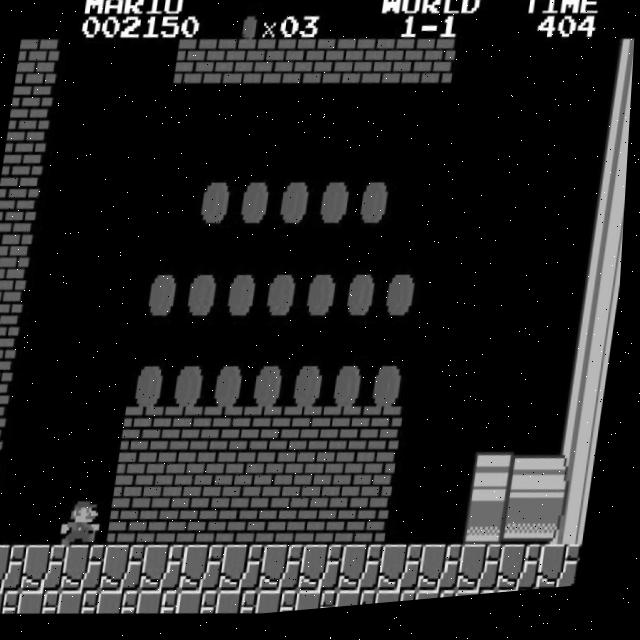1- brick_block: (371, 43, 419, 96), (252, 41, 300, 93), (118, 452, 165, 505), (350, 502, 397, 555), (173, 40, 220, 92), (112, 498, 159, 550), (213, 41, 260, 93), (158, 453, 205, 505), (152, 499, 199, 551), (198, 454, 245, 506), (192, 500, 239, 552), (292, 42, 339, 94), (237, 455, 284, 507), (231, 500, 278, 552), (332, 43, 379, 95), (283, 409, 330, 461), (277, 455, 324, 507), (271, 501, 318, 553), (317, 456, 364, 508), (311, 502, 358, 554), (411, 44, 458, 96), (356, 457, 403, 509), (124, 407, 171, 458), (164, 408, 211, 459), (204, 408, 251, 459), (243, 409, 290, 460), (323, 410, 370, 461), (362, 411, 409, 462), (15, 37, 61, 89), (9, 83, 55, 134), (3, 129, 49, 180), (0, 174, 43, 226), (0, 220, 37, 272), (0, 266, 30, 317), (0, 311, 24, 363), (0, 358, 18, 409), (0, 404, 12, 454), (0, 449, 6, 499)
11- little_mario: (62, 497, 112, 553)
14- pipe: (560, 414, 608, 465), (554, 460, 602, 511), (515, 460, 562, 512), (509, 505, 556, 557), (573, 322, 620, 374), (567, 368, 614, 420), (548, 505, 595, 557), (579, 276, 625, 327), (585, 231, 627, 283), (591, 185, 629, 237), (597, 140, 631, 190), (603, 94, 634, 144), (609, 48, 636, 99)
15- pipe_head: (475, 459, 522, 511), (469, 505, 516, 557)
17- undestructible_block: (185, 545, 233, 598), (66, 544, 114, 596), (304, 548, 352, 600), (423, 550, 471, 602), (106, 544, 153, 597), (463, 550, 510, 603), (27, 543, 74, 595), (146, 545, 193, 597), (225, 546, 272, 598), (265, 547, 312, 599), (344, 548, 391, 600), (384, 549, 431, 601), (502, 551, 549, 603), (542, 551, 589, 600), (0, 542, 34, 594), (63, 589, 108, 618), (182, 591, 227, 620), (24, 588, 68, 617), (103, 590, 147, 619), (143, 590, 187, 619), (222, 592, 266, 621), (261, 593, 305, 620), (301, 593, 345, 617), (341, 594, 385, 614), (0, 588, 28, 617), (381, 594, 425, 611), (421, 595, 465, 608), (461, 596, 505, 606)
2- coin: (341, 272, 389, 325), (130, 361, 178, 413), (182, 270, 230, 322), (249, 363, 297, 415), (301, 272, 349, 324), (368, 365, 416, 417), (262, 271, 309, 324), (329, 364, 376, 417), (143, 269, 190, 321), (195, 178, 242, 230), (170, 362, 217, 414), (222, 271, 269, 323), (210, 362, 257, 414), (289, 364, 336, 416), (381, 273, 428, 325), (234, 179, 281, 230), (274, 180, 321, 231), (314, 181, 361, 232), (353, 181, 400, 232)
